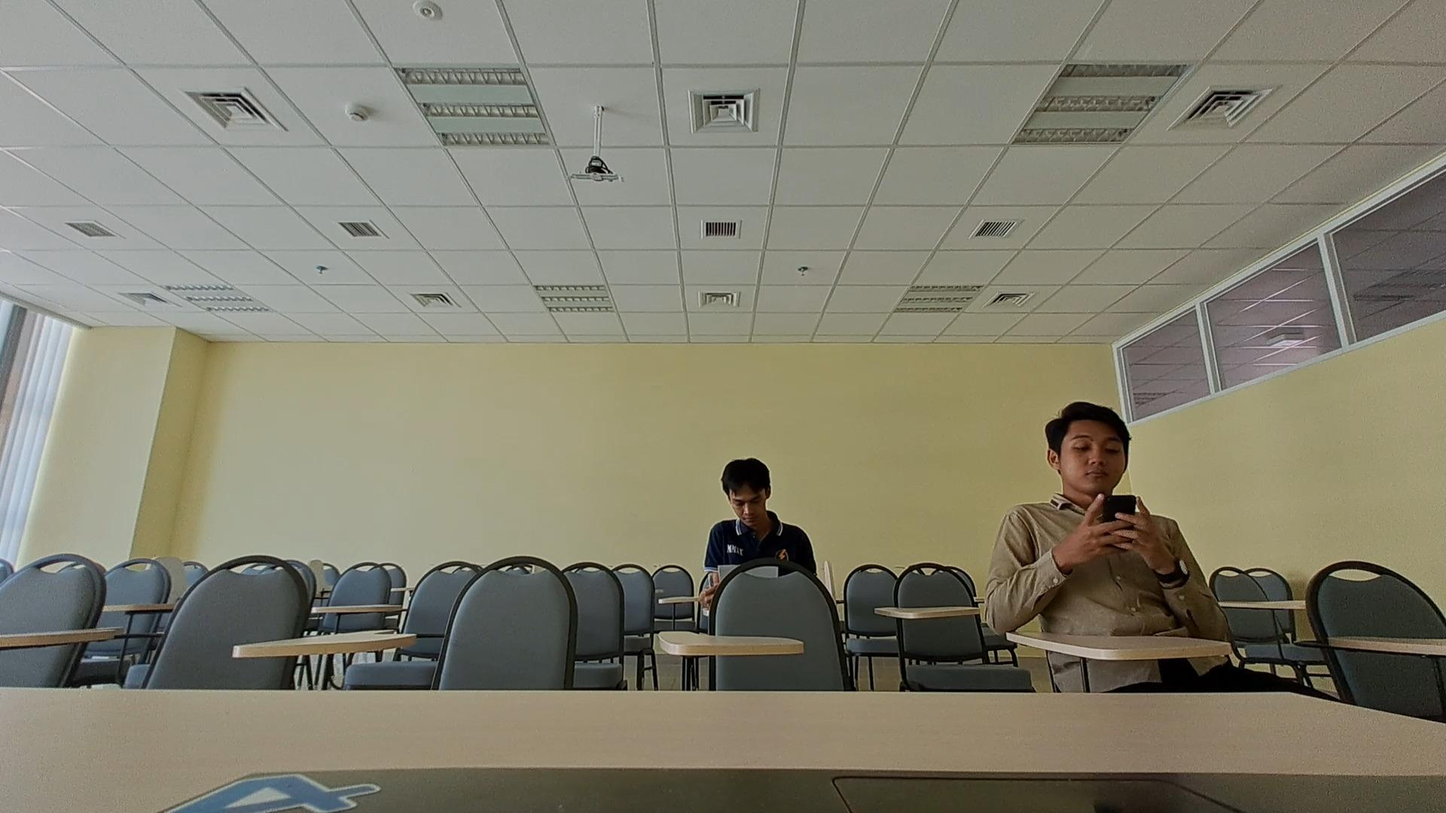phone: (973, 378, 1220, 636)
study: (695, 438, 817, 630)
